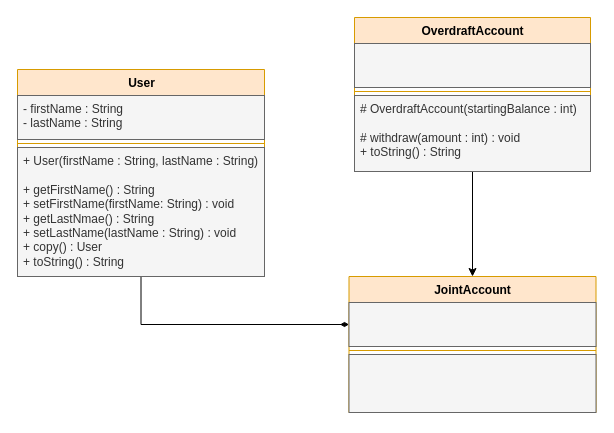
Some shapes in this 614 by 433 pixel diagram are drawn without their labels. The shapes that lost their labels are listed below. From the top down, each one's centre as x and y in pixels, then its label:
At [472,65]: "- balance : int".
At [472,324]: "- owners: ArrayList<User>".
At [472,383]: "+ JointAccount(balance : int, users : User...) + toString() : String".
